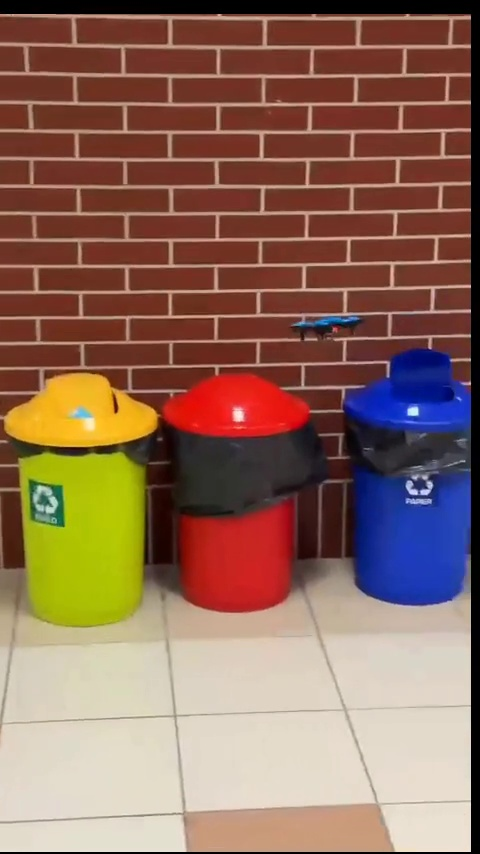drone: (293, 313, 360, 346)
